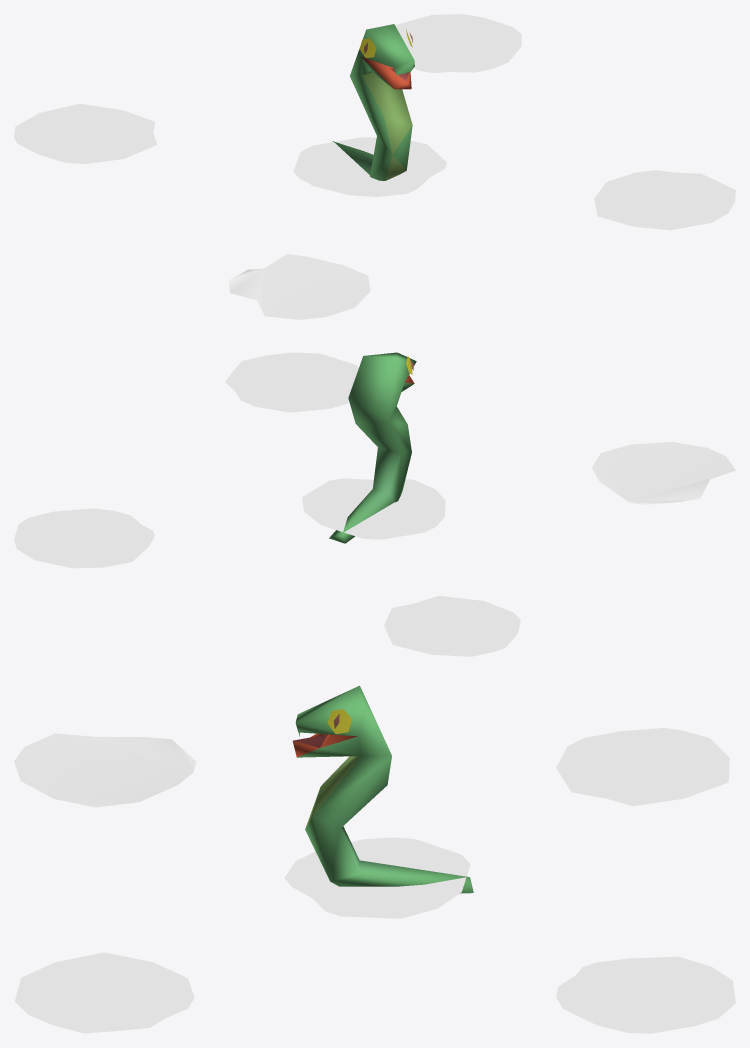
File: map.glb
3 renders of one model, top to bottom at view 1: azimuth 30°, elevation 25°; view 2: azimuth 150°, elevation 25°; view 3: azimuth 270°, elevation 25°, orthographic. The views are drawn at different scales.
Parts seen in each view (by area): view 1: Snake, Cylinder.006, Cylinder.005, Cylinder.008, Cylinder.007, Cylinder.009; view 2: Snake, Cylinder.007, Cylinder.005, Cylinder.008, Cylinder.006, Cylinder.009; view 3: Snake, Cylinder.006, Cylinder.007, Cylinder.008, Cylinder.005, Cylinder.009.
Part boxes in pixels (x1,y1,x2,y2): Snake: (332,24,414,180); Cylinder.006: (594,170,735,230); Cylinder.005: (228,254,370,319); Cylinder.008: (14,103,156,163); Cylinder.007: (395,14,521,72); Cylinder.009: (293,137,446,196); Snake: (329,352,416,543); Cylinder.007: (14,508,154,568); Cylinder.005: (592,442,735,504); Cylinder.008: (384,595,520,656); Cylinder.006: (225,352,358,412); Cylinder.009: (302,478,445,539); Snake: (292,685,473,893); Cylinder.006: (14,952,194,1033); Cylinder.007: (556,956,735,1033); Cylinder.008: (556,728,729,806); Cylinder.005: (14,733,196,807); Cylinder.009: (284,837,470,918).
Bounding box in the file's own units: 2 × 0.6073 × 2.
